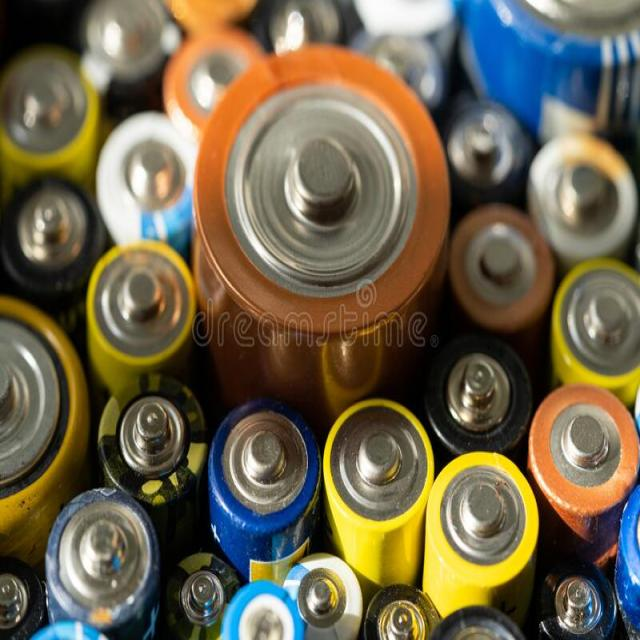Hazard: (8, 0, 640, 640)
